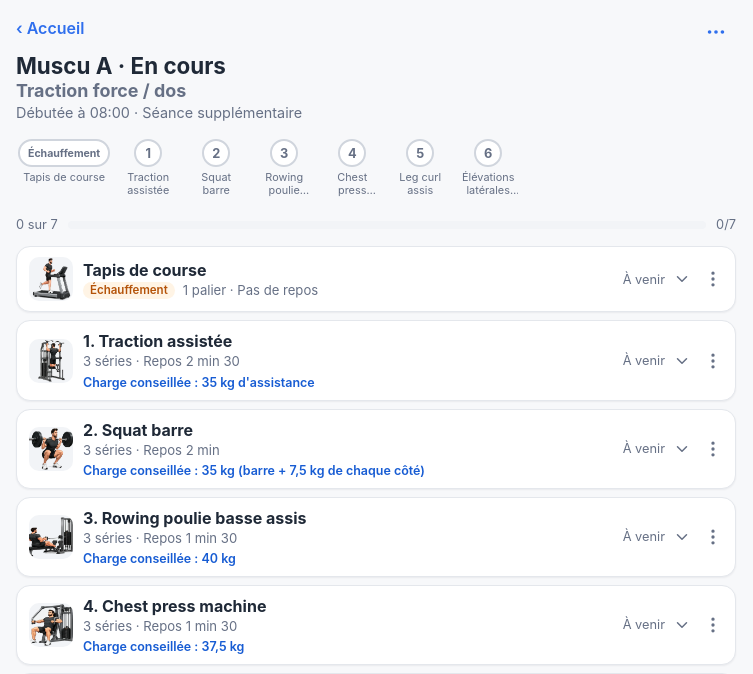
Test: écran de séance › pari V6 : traction en stagnation au sens du cadre (3 séances à 35 kg sans progrès) → aucun encart, le moteur V6 décide
Click the button "1 Traction assistée" at (148,168), box top-left (116, 135), bottom-right (180, 202)
(page scrolled)
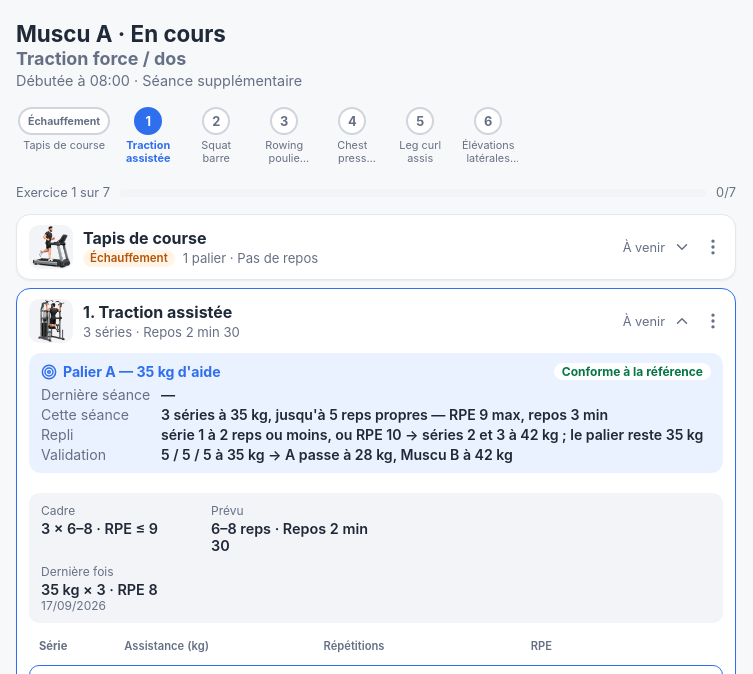
Check: the text "Palier A — 35 kg d'aide" is shown, box top-left (63, 364), bottom-right (221, 380)
